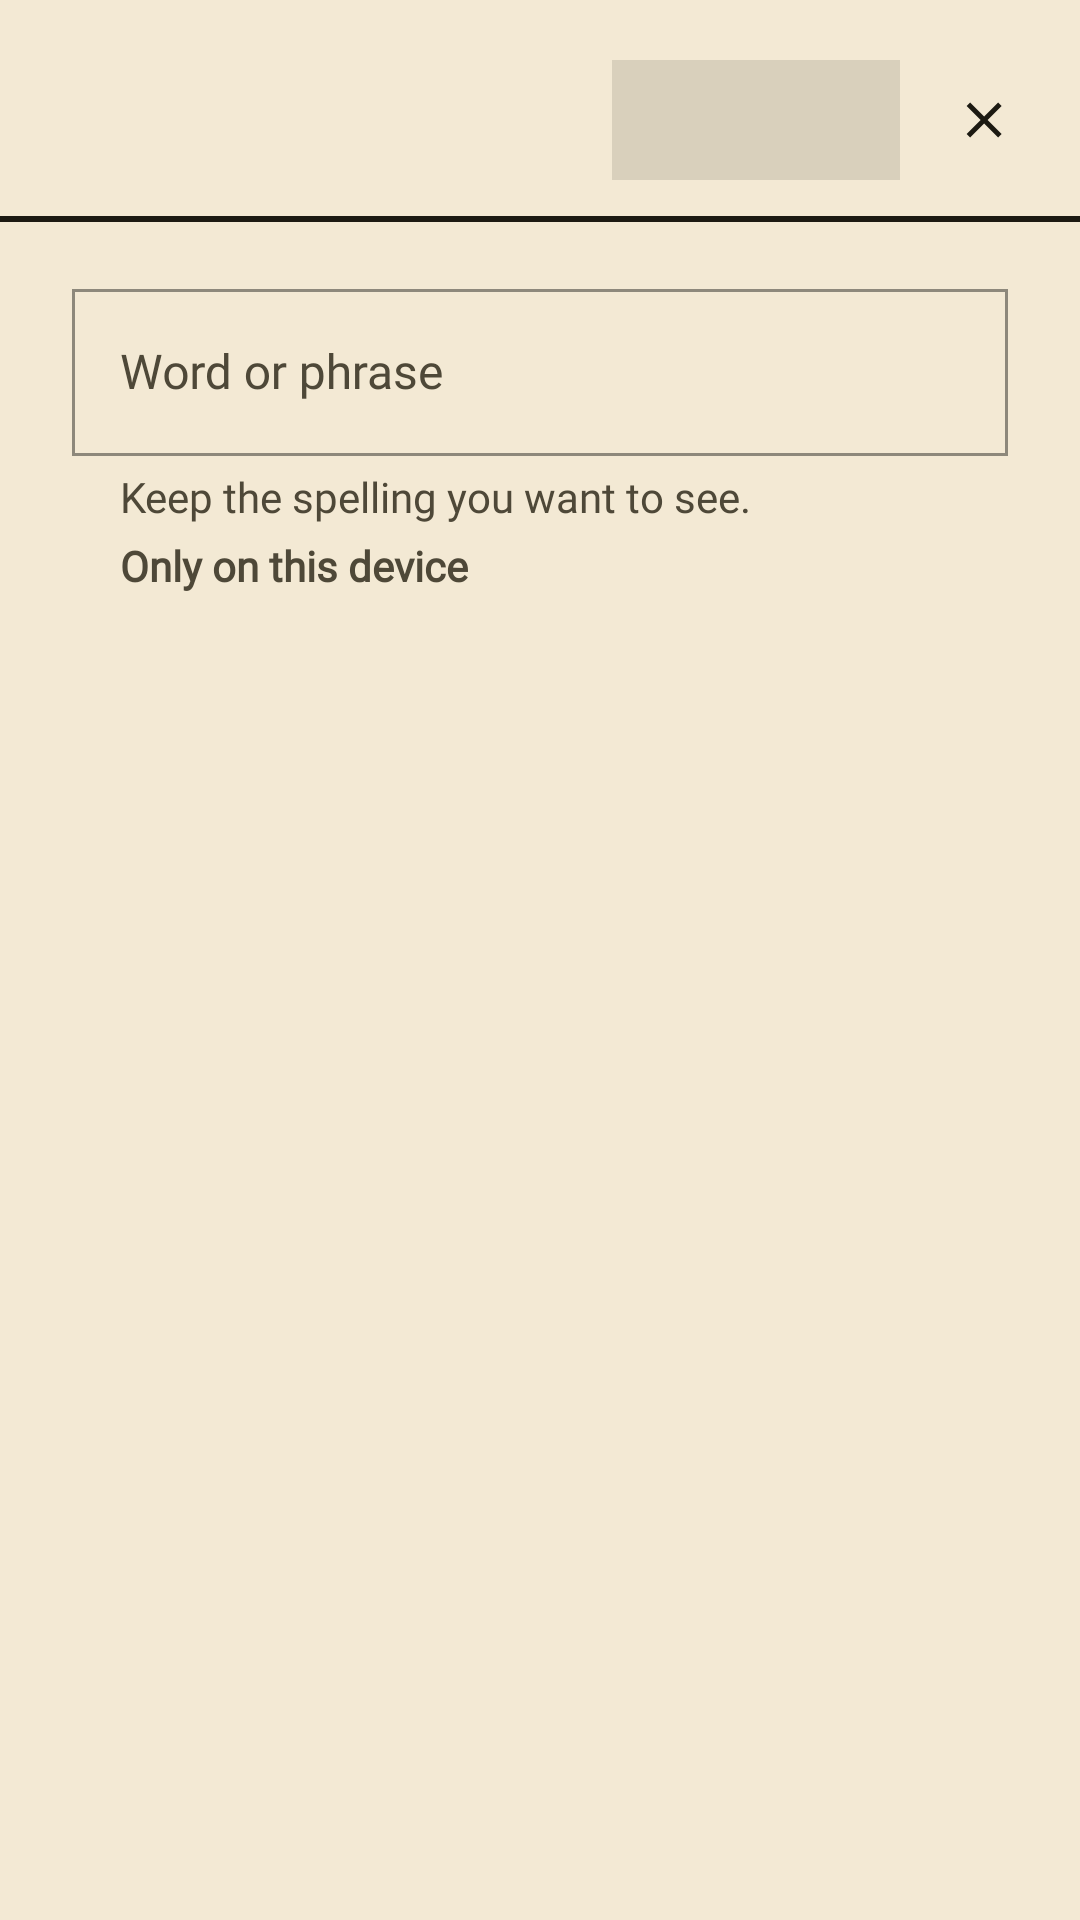

Point at icon controls on the screen. Image size 1080 x 1920, points as (x=x, y=y).
Close without saving: (x=984, y=120)
